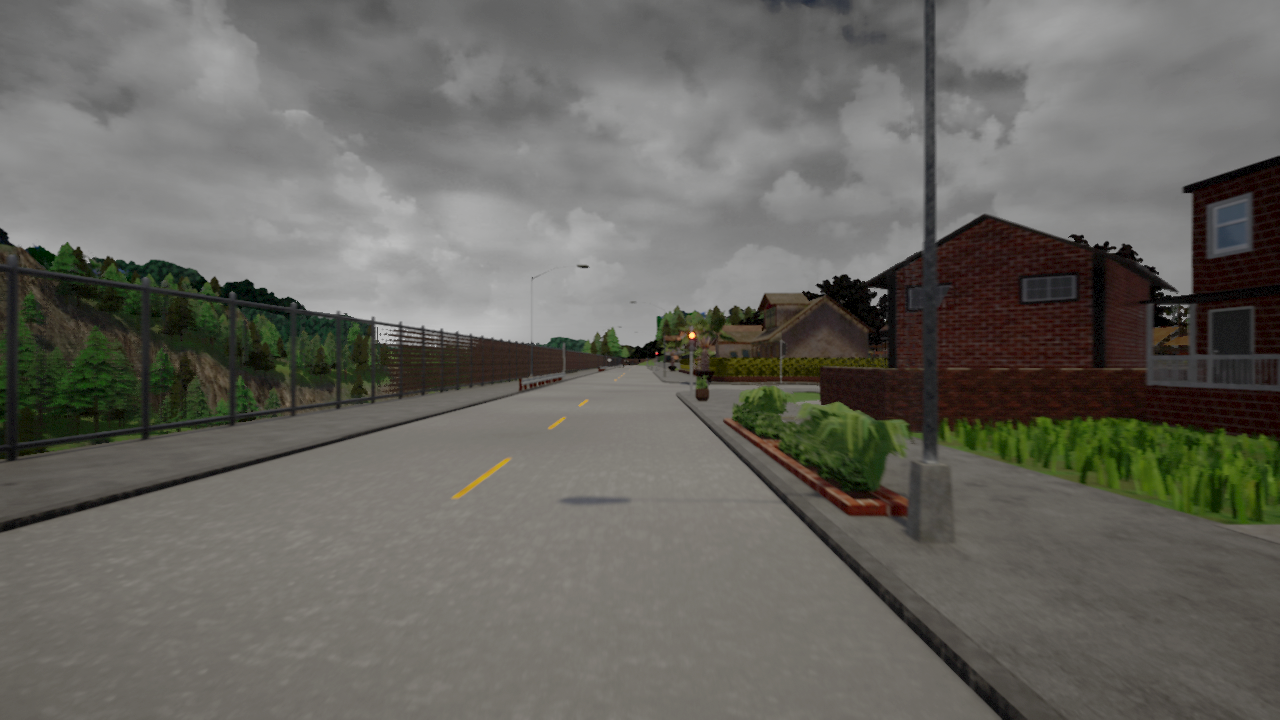red: (687, 330, 697, 352)
